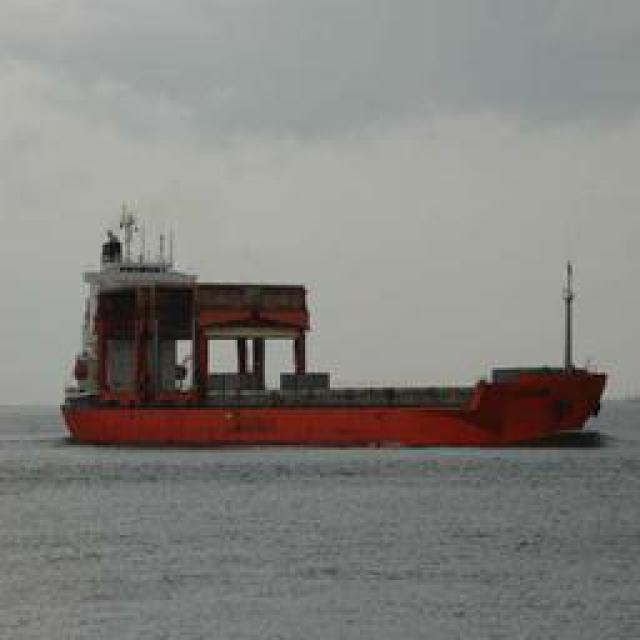Ship: (51, 372, 614, 455)
